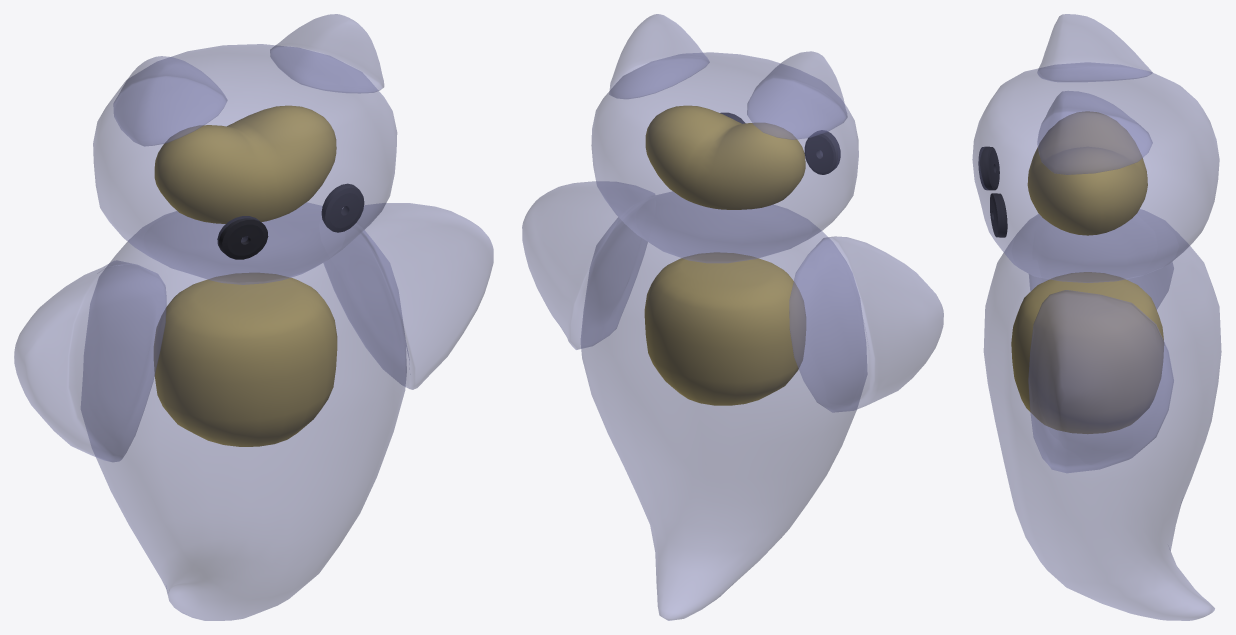
File: sea angel.fbx
3 renders of one model, left to right at view 1: azimuth 30°, elevation 25°; view 2: azimuth 150°, elevation 25°; view 3: azimuth 270°, elevation 25°, orthographic. The views are drawn at different scales.
Parts seen in each view (by area): view 1: pSphere1, pSphere11, pSphere2, pSphere12, pSphere15, Heart, pSphere4, pSphere14, pTorus2_ncl1_2, pTorus3; view 2: pSphere1, pSphere11, pSphere2, pSphere12, pSphere15, Heart, pSphere4, pSphere14, pTorus2_ncl1_2; view 3: pSphere1, pSphere11, pSphere15, pSphere2, Heart, pSphere14, pSphere4, pSphere12, pTorus2_ncl1_2, pTorus3.
Boxes of the visible parts, left/top/right/bottom form: pSphere1: left=81, top=203, right=406, bottom=620; pSphere11: left=93, top=44, right=397, bottom=284; pSphere2: left=154, top=273, right=337, bottom=446; pSphere12: left=14, top=260, right=166, bottom=462; pSphere15: left=324, top=203, right=493, bottom=389; Heart: left=154, top=105, right=336, bottom=223; pSphere4: left=113, top=56, right=227, bottom=146; pSphere14: left=270, top=14, right=384, bottom=93; pTorus2_ncl1_2: left=217, top=216, right=268, bottom=259; pTorus3: left=321, top=183, right=364, bottom=232; pSphere1: left=580, top=191, right=867, bottom=620; pSphere11: left=591, top=52, right=858, bottom=262; pSphere2: left=644, top=252, right=805, bottom=405; pSphere12: left=789, top=236, right=943, bottom=412; pSphere15: left=522, top=181, right=654, bottom=349; Heart: left=645, top=105, right=805, bottom=209; pSphere4: left=747, top=51, right=847, bottom=139; pSphere14: left=609, top=14, right=709, bottom=98; pTorus2_ncl1_2: left=804, top=130, right=840, bottom=174; pSphere1: left=983, top=209, right=1221, bottom=620; pSphere11: left=972, top=62, right=1219, bottom=282; pSphere15: left=1028, top=290, right=1173, bottom=473; pSphere2: left=1011, top=272, right=1163, bottom=433; Heart: left=1027, top=111, right=1147, bottom=235; pSphere14: left=1037, top=91, right=1152, bottom=174; pSphere4: left=1037, top=14, right=1152, bottom=81; pSphere12: left=1029, top=262, right=1173, bottom=308; pTorus2_ncl1_2: left=978, top=146, right=999, bottom=190; pTorus3: left=990, top=193, right=1007, bottom=237.
Size of the model in its own units: 1.74 by 2.18 by 0.8729.
